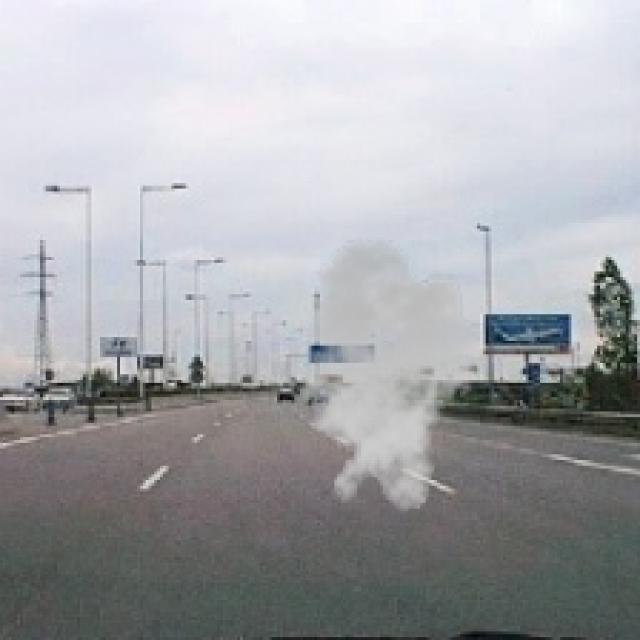smoke: (277, 237, 486, 514)
